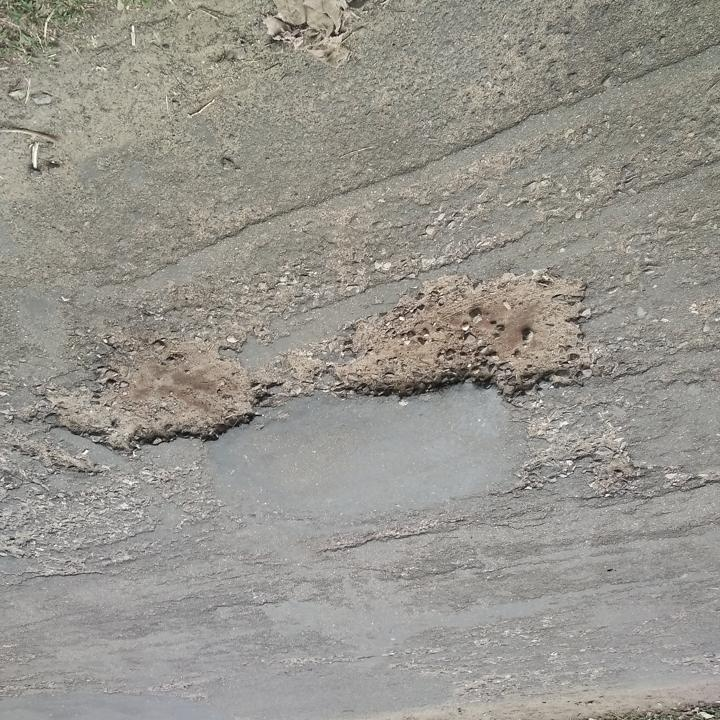pothole: (307, 267, 598, 405), (36, 334, 280, 457)
